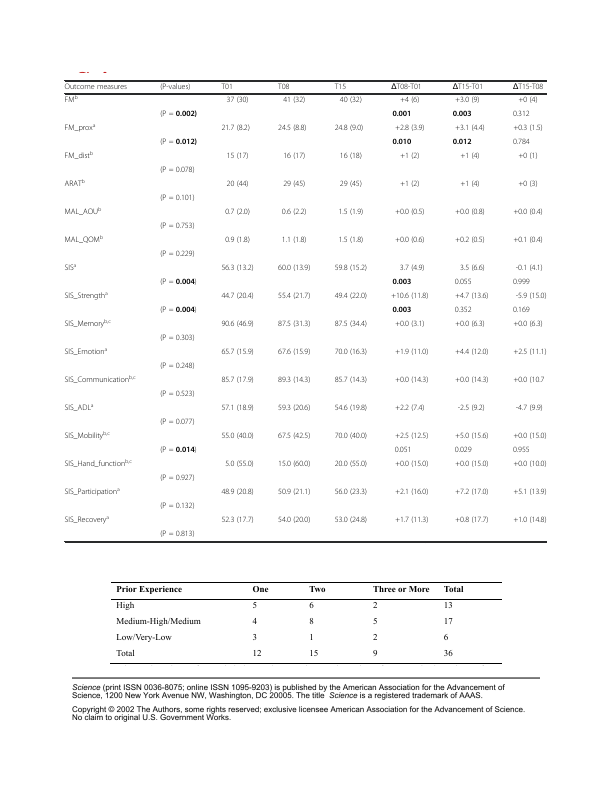borderless: (63, 78, 546, 541), (110, 580, 502, 663)
cell: (115, 617, 201, 627), (64, 374, 137, 385), (64, 458, 133, 469), (115, 584, 182, 594), (64, 486, 121, 497), (371, 584, 430, 594), (64, 83, 128, 92), (115, 633, 172, 643), (64, 318, 112, 329), (64, 430, 111, 441), (64, 514, 110, 525), (64, 290, 109, 301), (64, 346, 108, 357), (64, 234, 104, 245), (64, 206, 102, 217), (64, 122, 96, 133), (159, 110, 198, 119), (159, 138, 198, 147), (159, 278, 198, 287), (390, 292, 429, 301), (159, 306, 198, 315), (159, 446, 198, 455), (64, 150, 94, 161), (64, 402, 94, 413), (159, 166, 195, 175), (159, 194, 195, 203), (159, 222, 195, 231), (159, 250, 195, 259), (159, 334, 195, 343), (159, 362, 195, 371), (159, 390, 195, 399), (159, 418, 195, 427), (159, 474, 195, 483), (159, 502, 195, 511), (159, 530, 195, 539), (220, 264, 255, 273), (220, 292, 255, 301), (454, 292, 489, 301), (220, 320, 255, 329), (220, 348, 255, 357), (394, 348, 429, 357), (454, 348, 489, 357), (512, 348, 547, 357), (220, 376, 255, 385), (394, 376, 429, 385), (454, 376, 489, 385), (220, 404, 255, 413), (220, 432, 255, 441), (394, 432, 429, 441), (454, 432, 489, 441), (512, 432, 547, 441), (394, 460, 429, 469), (454, 460, 489, 469), (512, 460, 547, 469), (220, 488, 255, 497), (394, 488, 429, 497), (454, 488, 489, 497), (512, 488, 547, 497), (220, 516, 255, 525), (394, 516, 429, 525), (454, 516, 489, 525), (512, 516, 547, 525), (277, 264, 311, 273), (334, 264, 368, 273), (277, 292, 311, 301), (334, 292, 368, 301), (277, 320, 311, 329), (334, 320, 368, 329), (277, 348, 311, 357), (334, 348, 368, 357), (277, 376, 311, 385), (334, 376, 368, 385), (277, 404, 311, 413), (334, 404, 368, 413), (277, 432, 311, 441), (334, 432, 368, 441), (277, 460, 311, 469), (334, 460, 368, 469), (277, 488, 311, 497), (334, 488, 368, 497), (277, 516, 311, 525), (334, 516, 368, 525), (390, 83, 423, 92), (512, 376, 545, 385), (159, 83, 191, 92), (452, 83, 484, 92), (512, 83, 544, 92), (454, 124, 486, 133), (512, 124, 544, 133), (454, 208, 486, 217), (512, 208, 544, 217), (454, 236, 486, 245), (512, 236, 544, 245), (515, 292, 547, 301), (454, 320, 486, 329), (512, 320, 544, 329), (220, 124, 251, 133), (394, 124, 425, 133), (394, 208, 425, 217), (394, 236, 425, 245), (394, 320, 425, 329), (394, 404, 425, 413), (224, 460, 255, 469), (277, 124, 307, 133), (334, 124, 364, 133), (515, 264, 544, 273), (457, 404, 486, 413), (515, 404, 544, 413), (224, 208, 251, 217), (337, 208, 364, 217), (224, 236, 251, 245), (337, 236, 364, 245), (459, 264, 486, 273), (64, 178, 86, 189), (454, 96, 480, 105), (281, 208, 307, 217), (281, 236, 307, 245), (399, 264, 425, 273), (442, 584, 464, 594), (282, 96, 306, 105), (339, 96, 363, 105), (282, 152, 306, 161), (339, 152, 363, 161), (282, 180, 306, 189), (339, 180, 363, 189), (226, 96, 249, 105), (226, 152, 249, 161), (226, 180, 249, 189), (115, 601, 135, 611), (115, 649, 135, 659), (399, 96, 420, 105), (517, 96, 538, 105), (399, 152, 420, 161), (459, 152, 480, 161), (517, 152, 538, 161), (399, 180, 420, 189), (459, 180, 480, 189), (517, 180, 538, 189), (251, 584, 269, 594), (308, 584, 326, 594), (391, 110, 412, 118), (391, 138, 412, 146), (391, 278, 412, 286), (391, 306, 412, 314), (64, 94, 79, 105), (512, 110, 530, 119), (512, 138, 530, 147), (454, 278, 472, 287), (512, 278, 530, 287), (454, 306, 472, 315), (512, 306, 530, 315), (394, 446, 412, 455), (454, 446, 472, 455), (512, 446, 530, 455), (452, 110, 472, 118), (452, 138, 472, 146), (64, 262, 77, 273), (220, 83, 234, 92), (277, 83, 290, 92), (334, 83, 347, 92), (442, 601, 453, 611), (442, 617, 453, 627), (251, 649, 262, 659), (308, 649, 319, 659), (442, 649, 453, 659), (371, 601, 378, 611), (371, 617, 378, 627), (371, 633, 378, 643), (442, 633, 449, 643), (371, 649, 378, 659), (251, 601, 257, 611), (308, 601, 314, 611), (251, 617, 257, 627), (308, 617, 314, 627), (251, 633, 257, 643), (308, 633, 314, 643)
